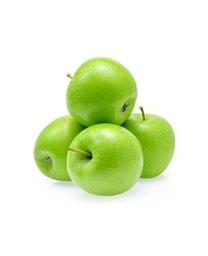apple: (65, 123, 143, 195), (65, 56, 137, 126), (122, 106, 175, 178), (34, 115, 87, 181)
